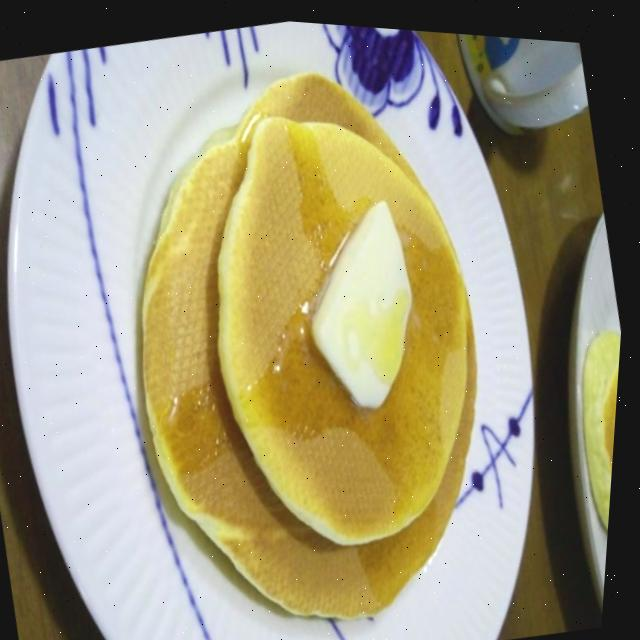米饭主食: (122, 49, 366, 326)
蔬菜料理: (393, 345, 609, 636), (455, 588, 550, 640)
